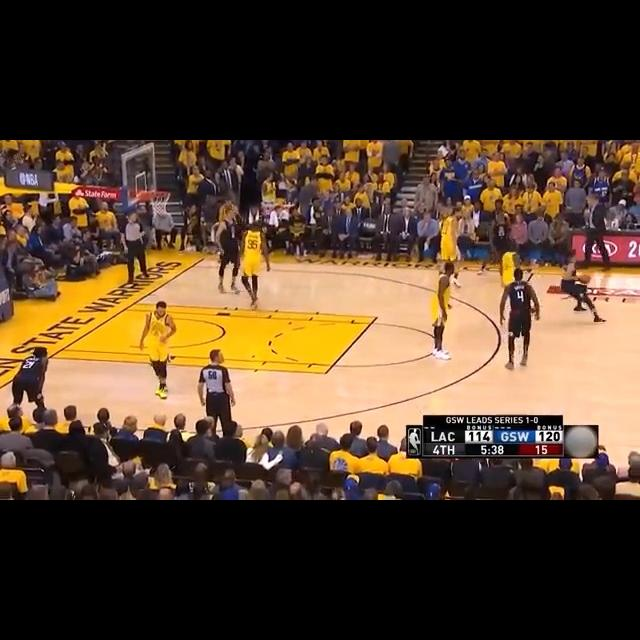basketball: (580, 273, 591, 286)
hoop: (146, 188, 173, 219)
